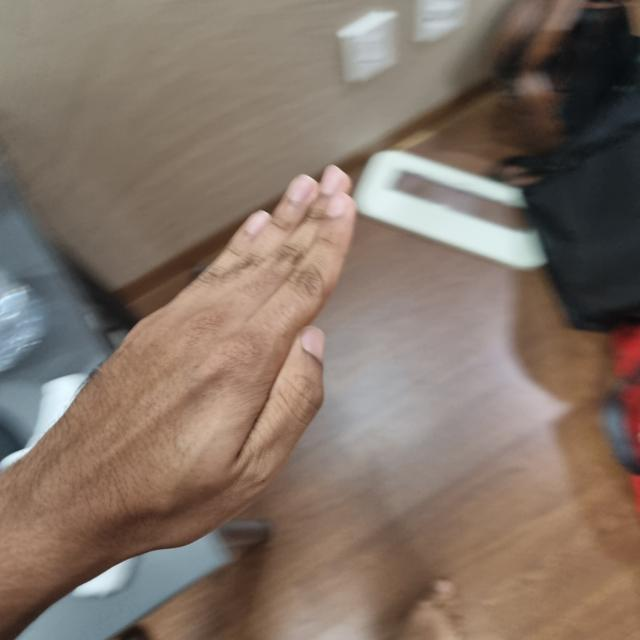Paper: (46, 166, 353, 548)
